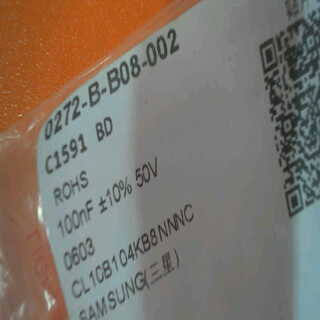100nF: (52, 200, 95, 237)
